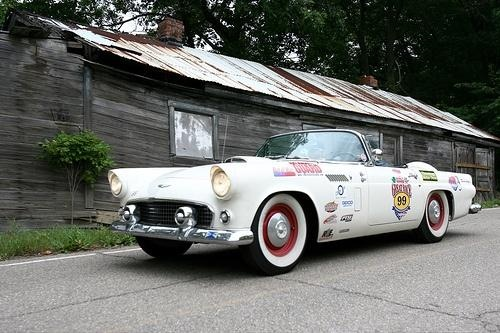car: (107, 128, 485, 274)
